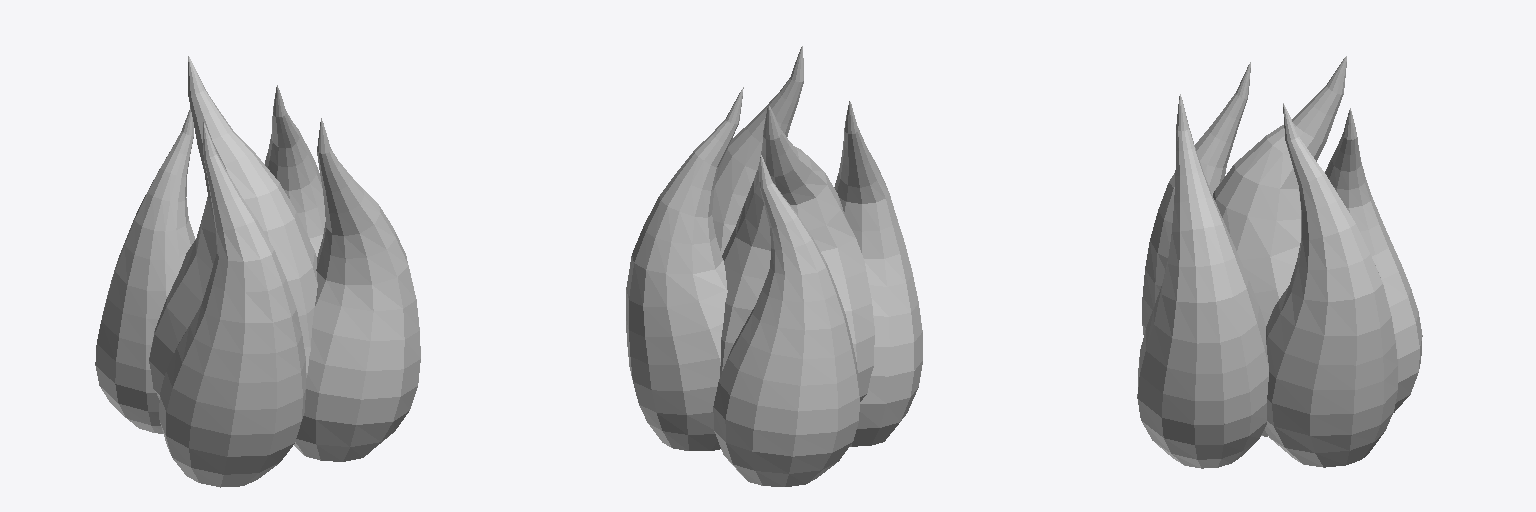
File: fire_000054.obj
3 views of the same model, side by side, from view 1: azimuth 30°, elevation 25°; view 2: azimuth 150°, elevation 25°; view 3: azimuth 270°, elevation 25° (orthographic).
Parts seen in each view (by area): view 1: flame_NurbsPath.015; view 2: flame_NurbsPath.015; view 3: flame_NurbsPath.015.
Part boxes in pixels (x1,y1,x2,y2): flame_NurbsPath.015: (95,56,420,487); flame_NurbsPath.015: (626,46,922,486); flame_NurbsPath.015: (1137,56,1422,468).
Bounding box in the file's own units: 0.7653 × 1.14 × 0.8004.